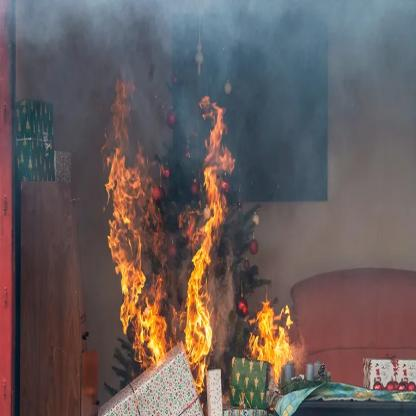fire: (110, 57, 316, 394)
smoke: (2, 0, 416, 176)
